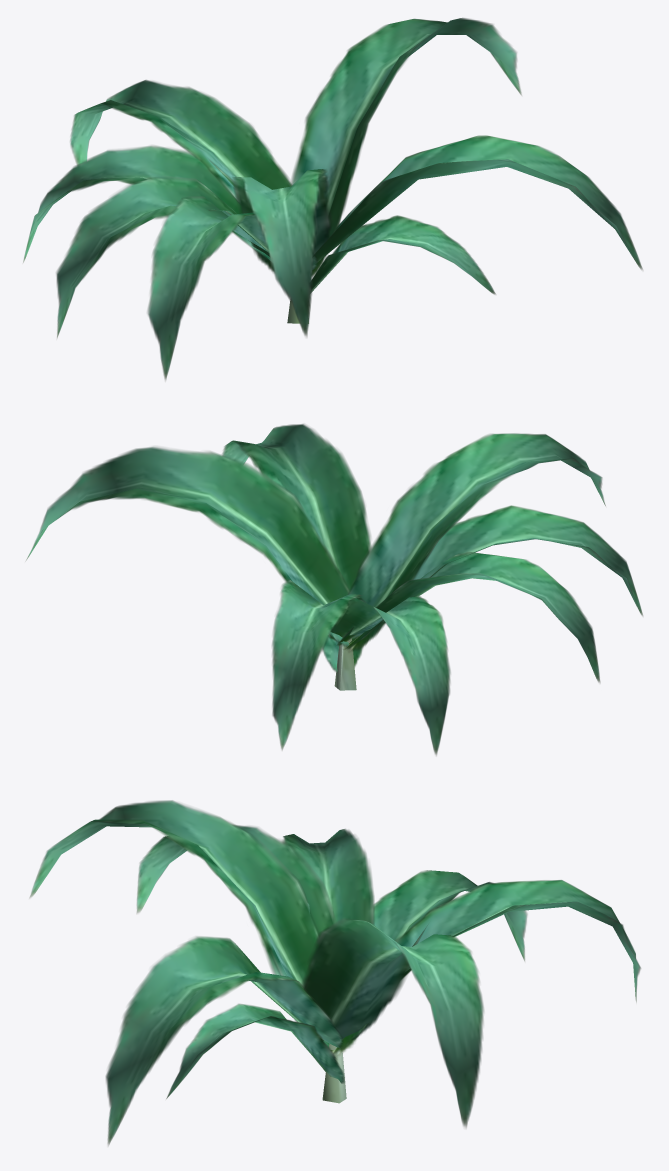
The model's file is kecombrang_02_A_001.glb.
3 views of the same model, one above another, from view 1: azimuth 30°, elevation 25°; view 2: azimuth 150°, elevation 25°; view 3: azimuth 270°, elevation 25° (orthographic). The views are drawn at different scales.
Parts seen in each view (by area): view 1: kecombrang_02_A.001; view 2: kecombrang_02_A.001; view 3: kecombrang_02_A.001.
Boxes of the visible parts, left/top/right/bottom form: kecombrang_02_A.001: left=23, top=18, right=642, bottom=380; kecombrang_02_A.001: left=26, top=424, right=642, bottom=755; kecombrang_02_A.001: left=29, top=800, right=640, bottom=1145.
Bounding box in the file's own units: 2.52 × 1.01 × 2.31.
Materials: 3 (3 with a texture image).
